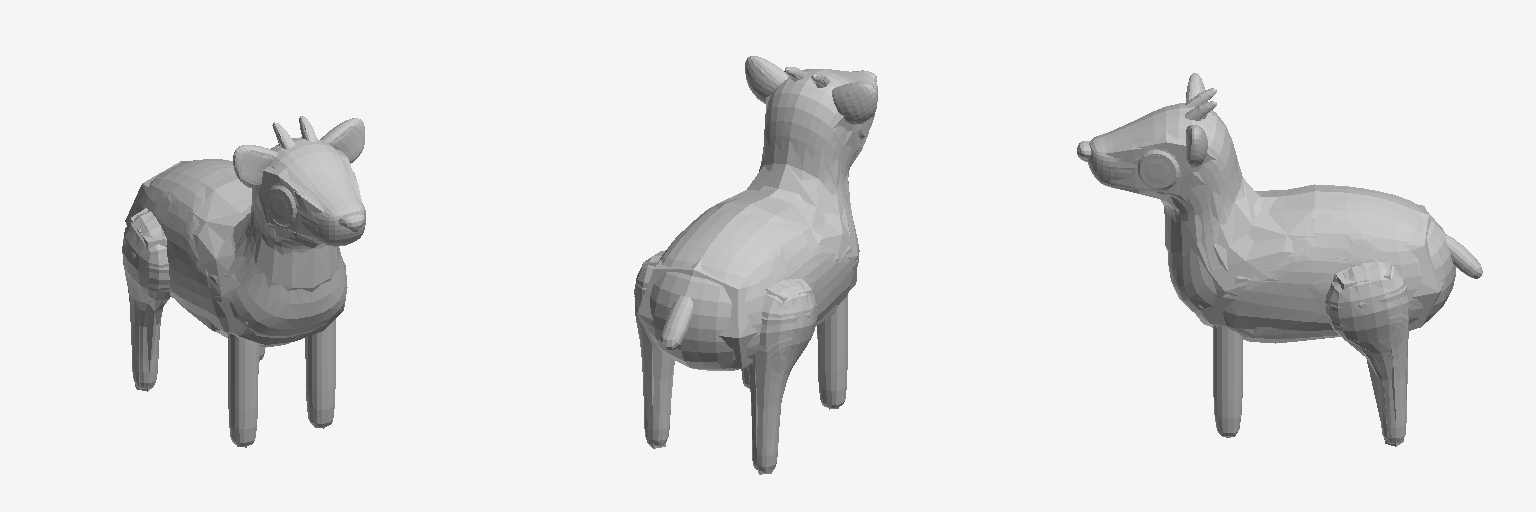
Rendered from Pudu_LOD_All.obj.
The picture shows the model from 3 angles: view 1: azimuth 30°, elevation 25°; view 2: azimuth 150°, elevation 25°; view 3: azimuth 270°, elevation 25°; orthographic projection.
Parts seen in each view (by area): view 1: Pudu_LOD0, Pudu_LOD2, Pudu_LOD1, Pudu_LOD3; view 2: Pudu_LOD0, Pudu_LOD3, Pudu_LOD2, Pudu_LOD1; view 3: Pudu_LOD0, Pudu_LOD2, Pudu_LOD3, Pudu_LOD1.
Part boxes in pixels (x1,y1,x2,y2): Pudu_LOD0: (122, 116, 365, 446); Pudu_LOD2: (137, 129, 360, 332); Pudu_LOD1: (123, 116, 363, 386); Pudu_LOD3: (125, 140, 361, 447); Pudu_LOD0: (634, 56, 877, 472); Pudu_LOD3: (634, 77, 873, 474); Pudu_LOD2: (706, 66, 874, 320); Pudu_LOD1: (635, 61, 870, 463); Pudu_LOD0: (1077, 73, 1482, 443); Pudu_LOD2: (1108, 113, 1389, 355); Pudu_LOD3: (1106, 101, 1443, 446); Pudu_LOD1: (1125, 76, 1409, 441).
Bounding box in the file's own units: 0.5663 × 1.06 × 1.21.